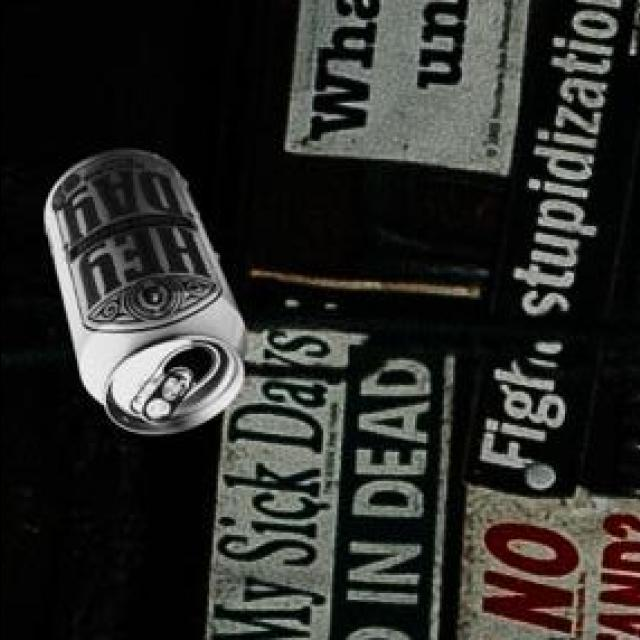logam: (41, 153, 243, 437)
